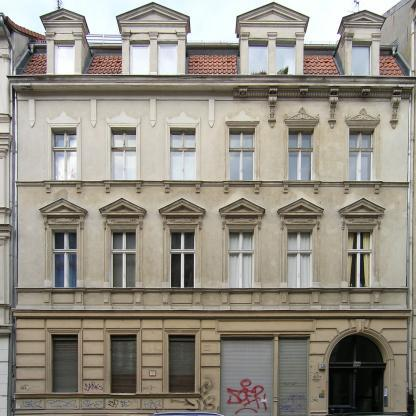Blind: (169, 334, 196, 393), (110, 334, 137, 393), (51, 334, 78, 393), (110, 229, 136, 288), (51, 229, 77, 287), (288, 229, 313, 288), (229, 229, 254, 287), (362, 232, 370, 287), (348, 233, 354, 287)
Building Outline: (5, 1, 416, 416)
Cornice: (117, 3, 189, 28), (237, 3, 308, 28), (338, 197, 386, 217), (38, 197, 88, 216), (98, 197, 147, 215), (158, 197, 206, 215), (277, 197, 325, 215), (219, 197, 266, 215), (41, 9, 84, 28), (344, 107, 381, 128), (343, 11, 385, 29), (283, 107, 320, 127), (225, 109, 260, 128), (165, 110, 201, 127), (46, 110, 81, 127), (106, 110, 141, 127)
Deco: (389, 94, 402, 130), (327, 94, 339, 130), (267, 94, 277, 130), (149, 98, 156, 128), (90, 99, 97, 129), (28, 99, 35, 128), (208, 99, 215, 128), (355, 319, 366, 333)
Door: (220, 336, 274, 416), (328, 363, 389, 416), (277, 336, 310, 416), (329, 333, 389, 363)
Floor: (16, 201, 408, 318), (16, 98, 408, 202)
Floor Slab: (16, 311, 408, 318), (16, 195, 408, 202), (16, 92, 408, 98)
Ground Floor: (16, 318, 408, 415)
Molding: (232, 86, 412, 99)
Roof: (20, 53, 404, 76)
Sill: (342, 180, 383, 194), (282, 180, 322, 194), (42, 180, 84, 193), (223, 180, 262, 194), (102, 180, 144, 193), (162, 180, 203, 193)
Top Floor: (6, 24, 412, 77)
Window: (169, 334, 196, 393), (110, 334, 137, 393), (51, 334, 78, 393), (110, 229, 136, 288), (51, 229, 77, 287), (170, 229, 195, 288), (288, 229, 313, 288), (348, 229, 373, 288), (229, 229, 254, 287), (170, 128, 196, 180), (110, 128, 136, 180), (229, 128, 255, 180), (349, 128, 375, 180), (289, 128, 314, 181), (51, 128, 76, 180), (54, 40, 75, 74), (275, 40, 296, 74), (248, 40, 268, 75), (157, 41, 178, 74), (353, 41, 373, 75), (130, 41, 150, 74)
dont: (148, 402, 227, 416), (325, 404, 414, 416)
